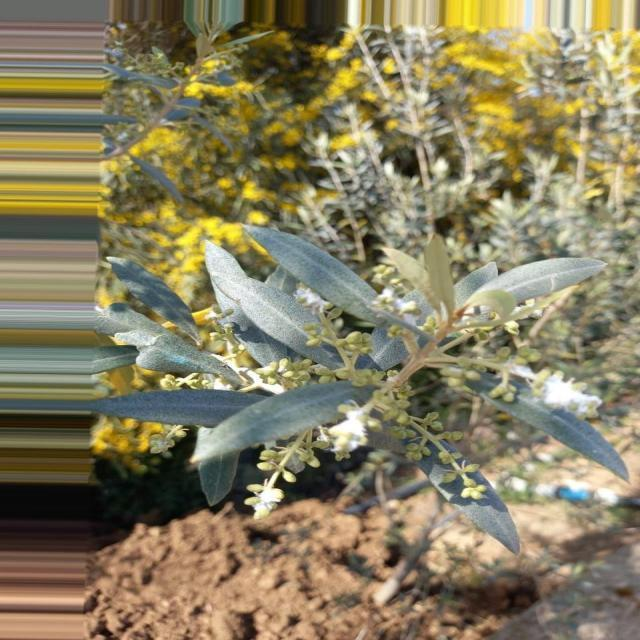Psyllid: (512, 366, 602, 419), (322, 398, 382, 459), (244, 474, 284, 520)
